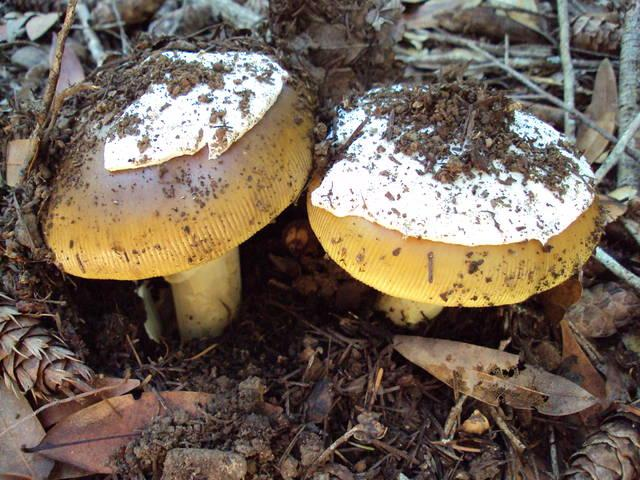edible_mushroom: (38, 47, 318, 346), (305, 77, 606, 328)
